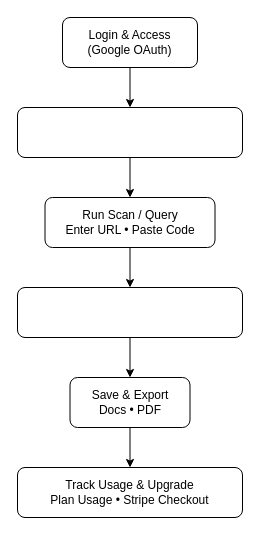
The diagram is 260 pixels wide and 535 high, and some of its shapes have lost their labels. Here are the shapes that lost their labels. From the top down, the centre of each, then its label:
point 129,132: Choose Mode Search • Scan Website • Scan Code
point 129,312: Review Results Vulnerability • Severities • Automate
